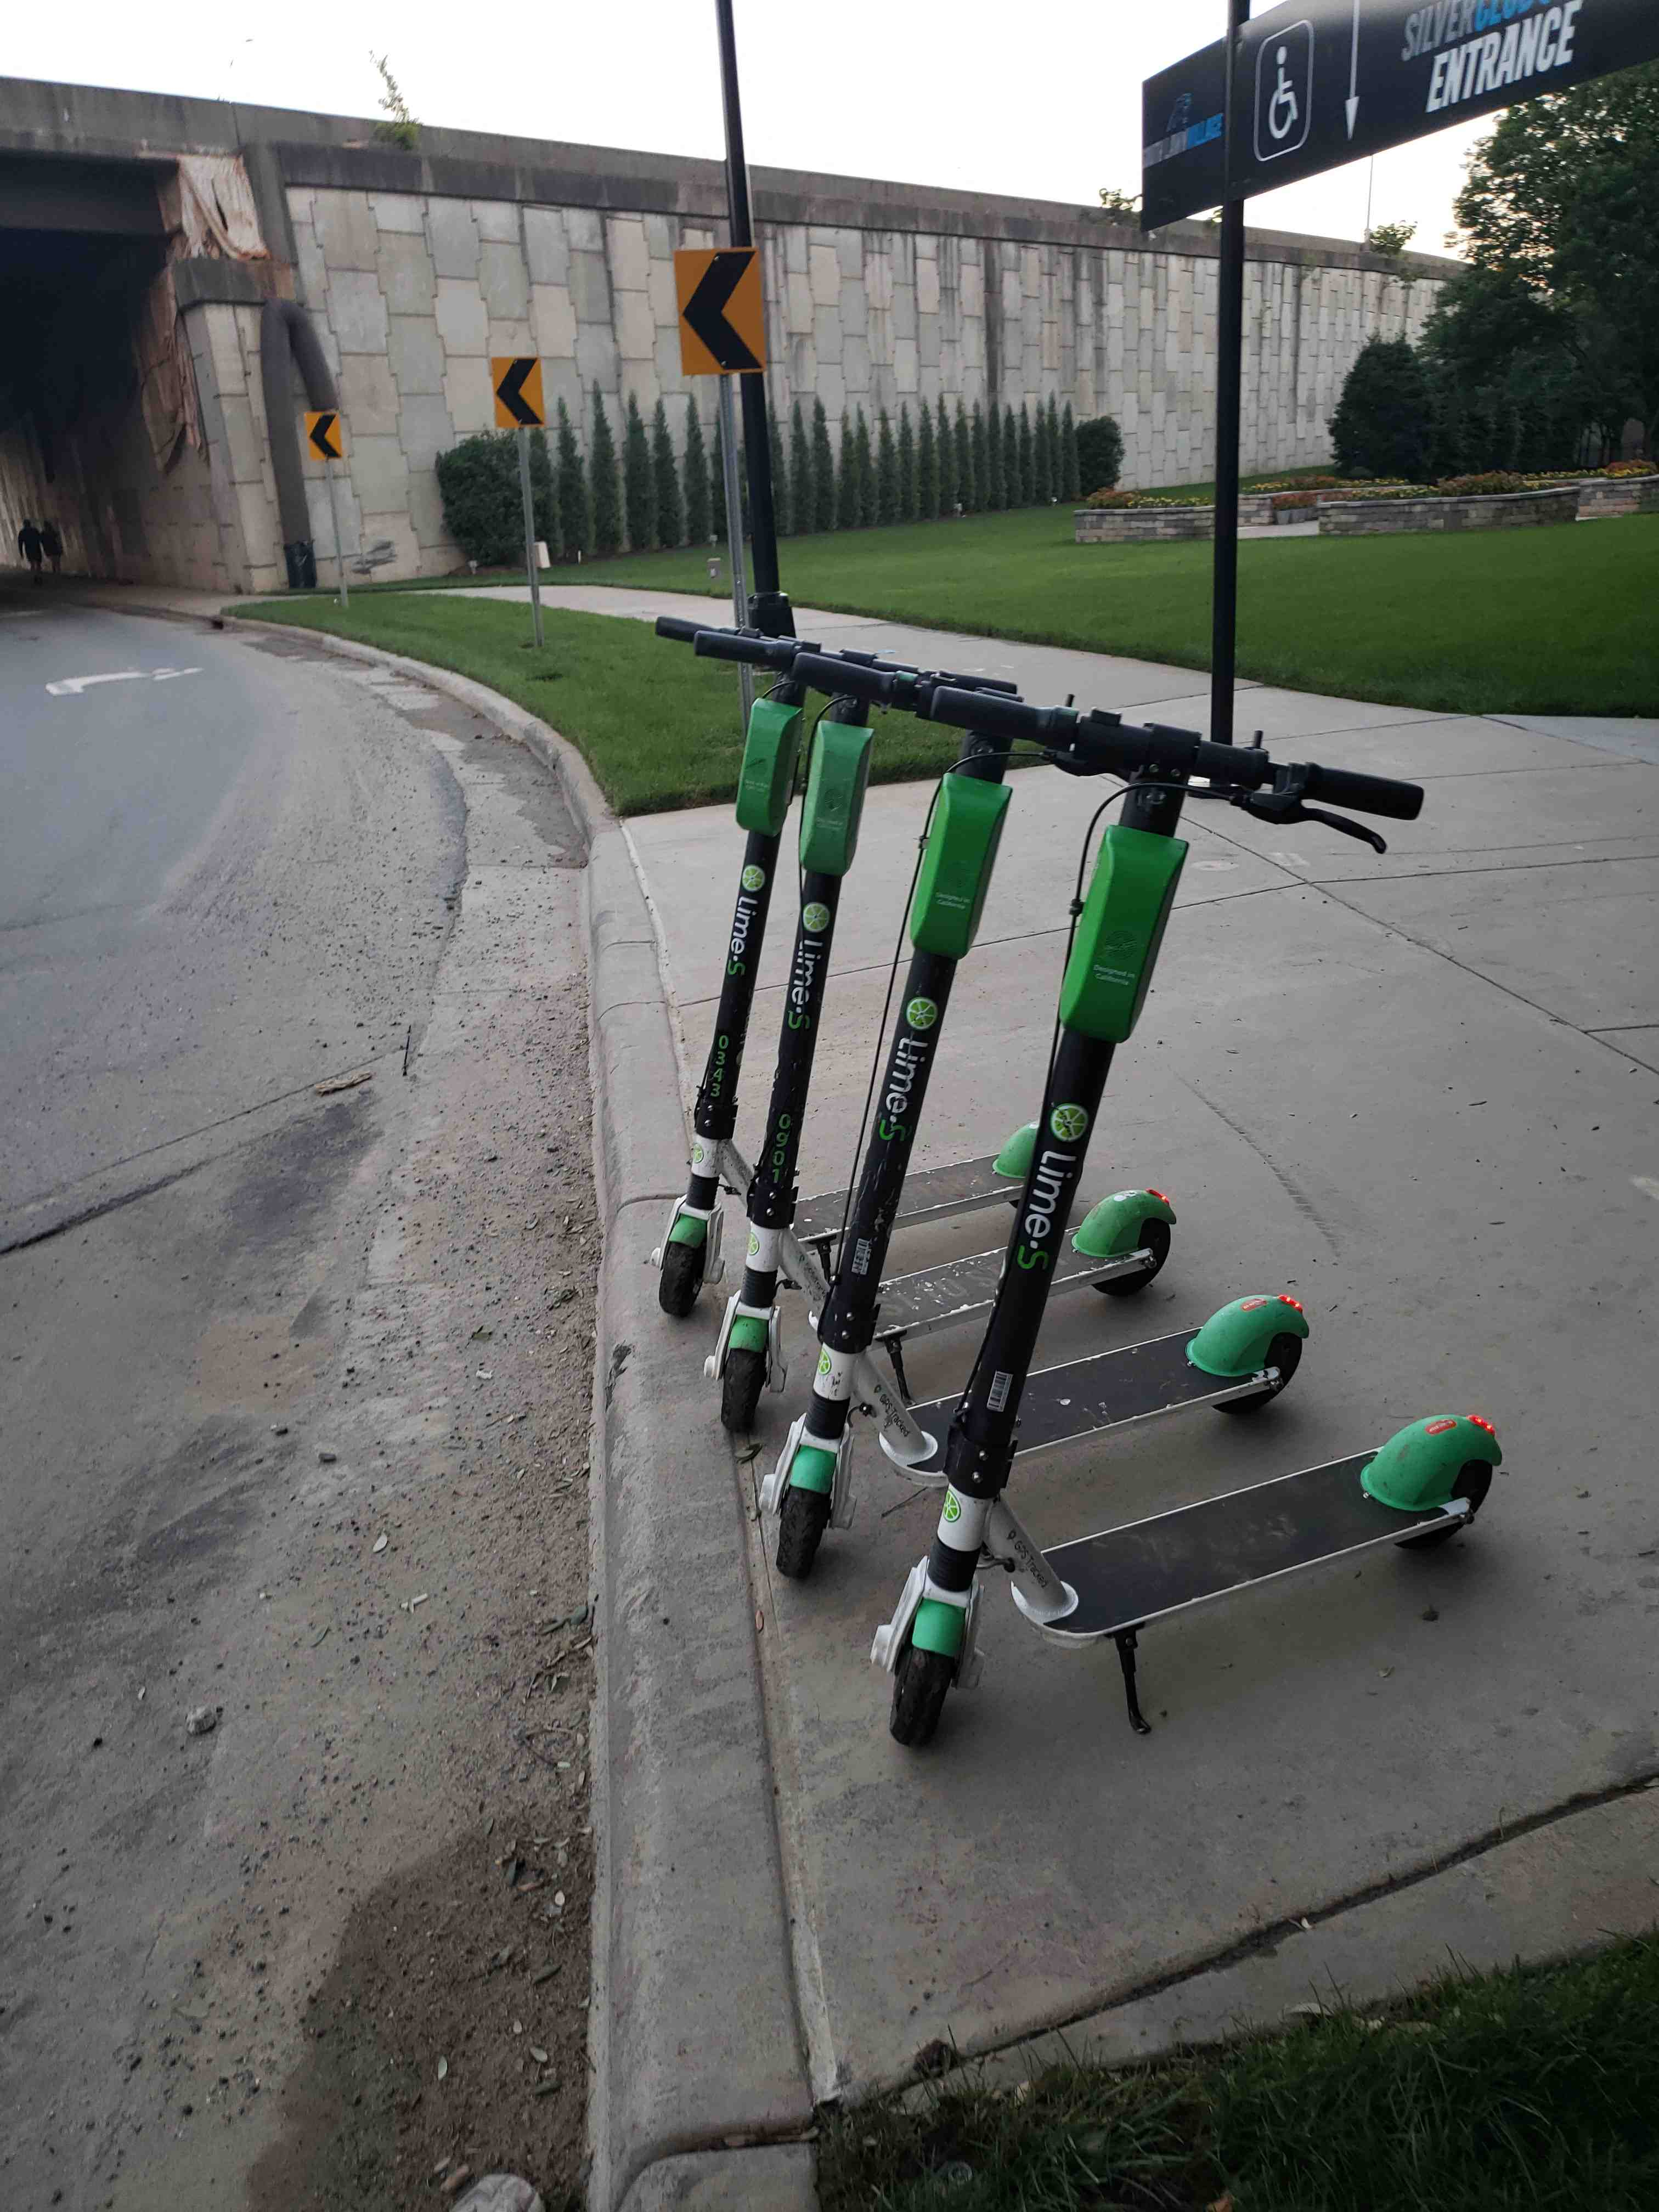too close: (558, 1313, 868, 1524), (566, 1136, 779, 1348)
